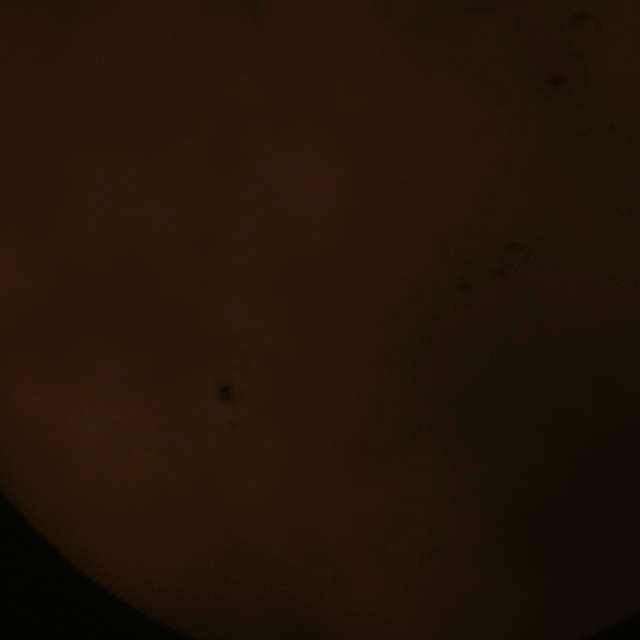sunspot: (197, 361, 251, 434), (555, 0, 611, 38), (545, 63, 584, 109), (500, 237, 547, 269), (448, 266, 478, 310)
